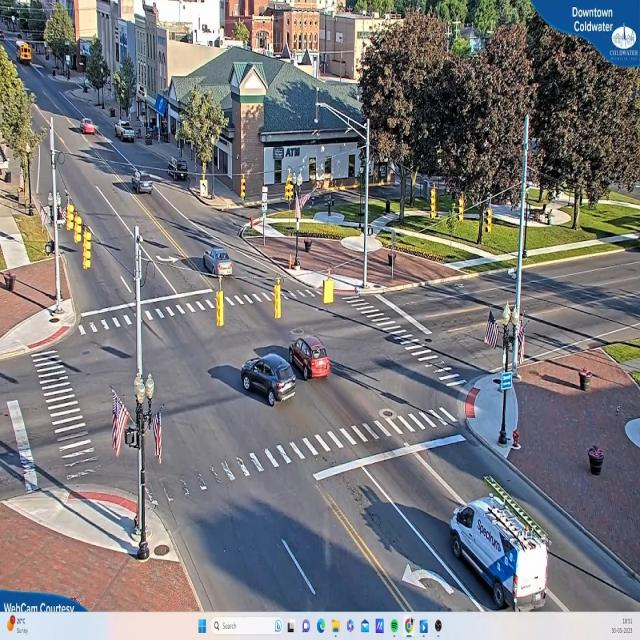car: (240, 349, 297, 406), (290, 334, 332, 379), (206, 249, 234, 277), (117, 121, 137, 145), (134, 176, 153, 195), (83, 120, 95, 134)
truck: (450, 496, 550, 608)
